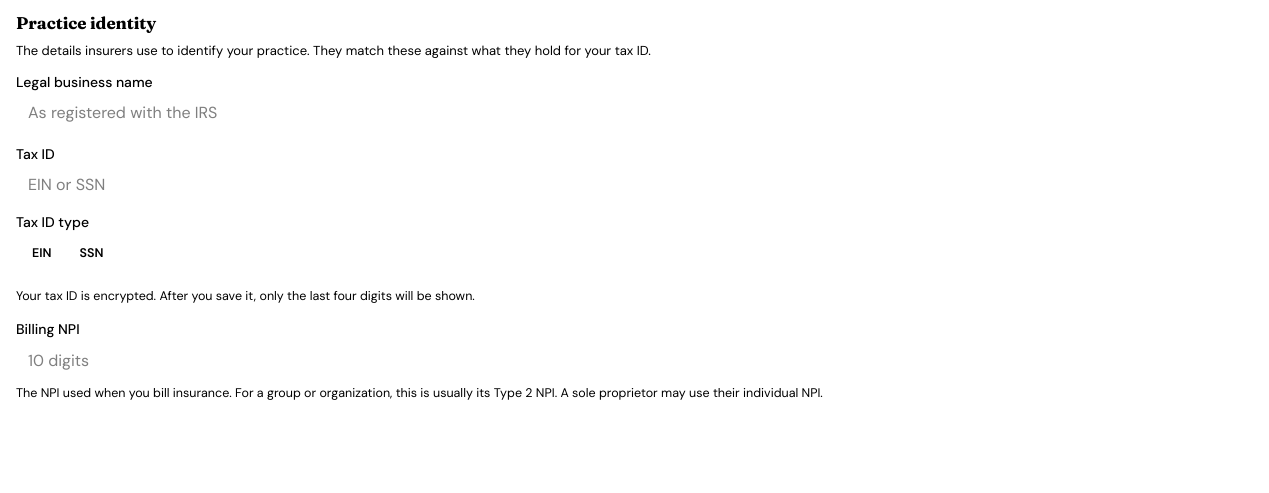
Scenario: the billing NPI › offers her own NPI when she files under an SSN
The width and height of the screenshot is (1269, 493).
Click the radio button labelled "SSN" at (91, 253), box [66,238,116,268]
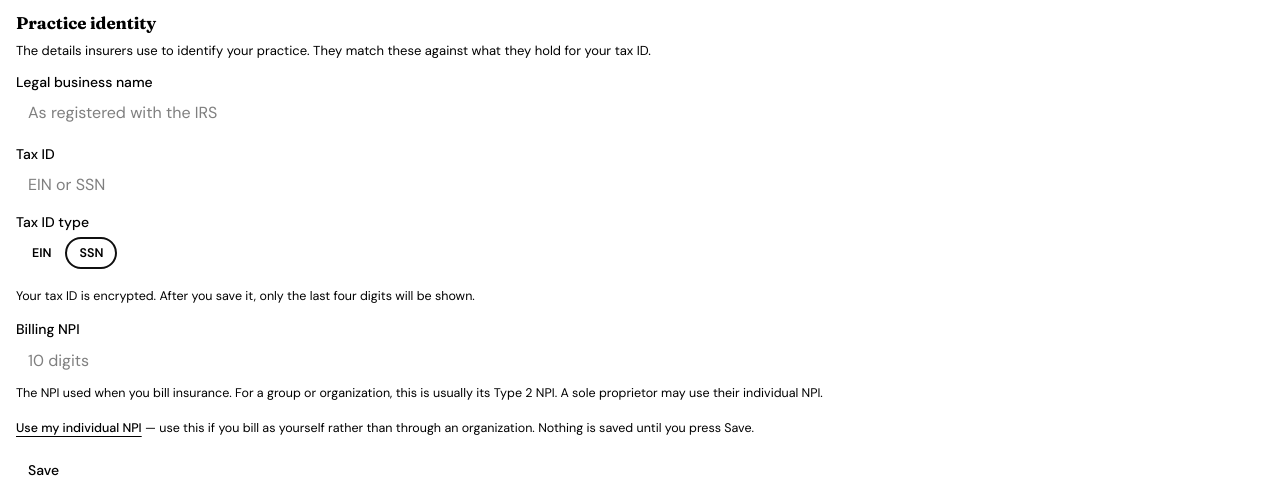
Click the button "Use my individual NPI" at (79, 428), box [16,419,142,438]
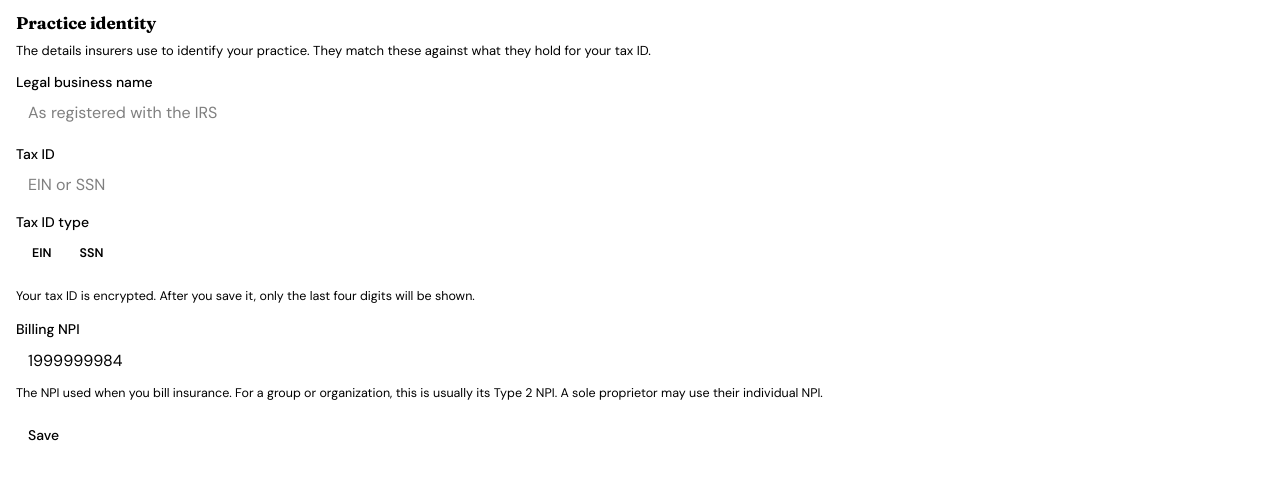
Expected: the field labelled "Billing NPI" holds "1999999984", [16,342,1252,378]
